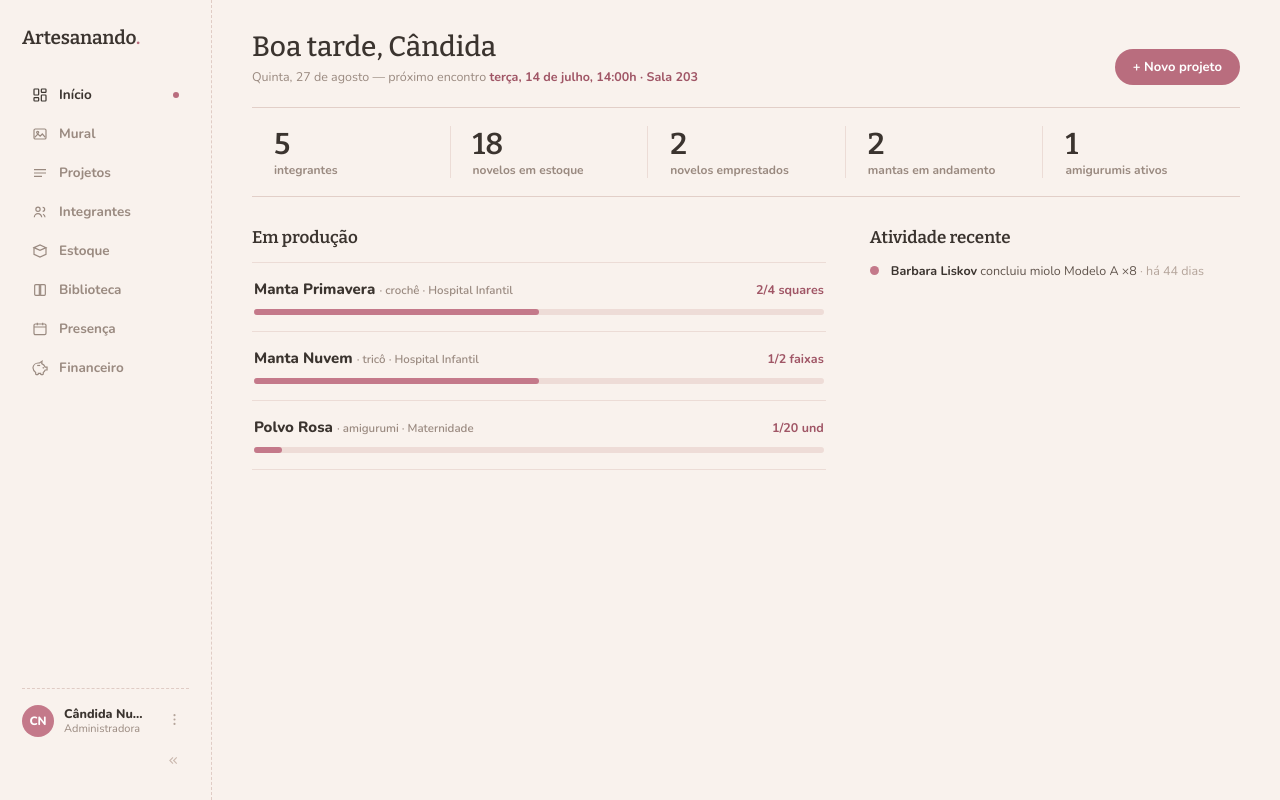
Test: navegação › abre o modal de novo projeto pela pagina inicial
Click the button "+ Novo projeto". click: (1177, 67)
box: [1115,49,1240,85]
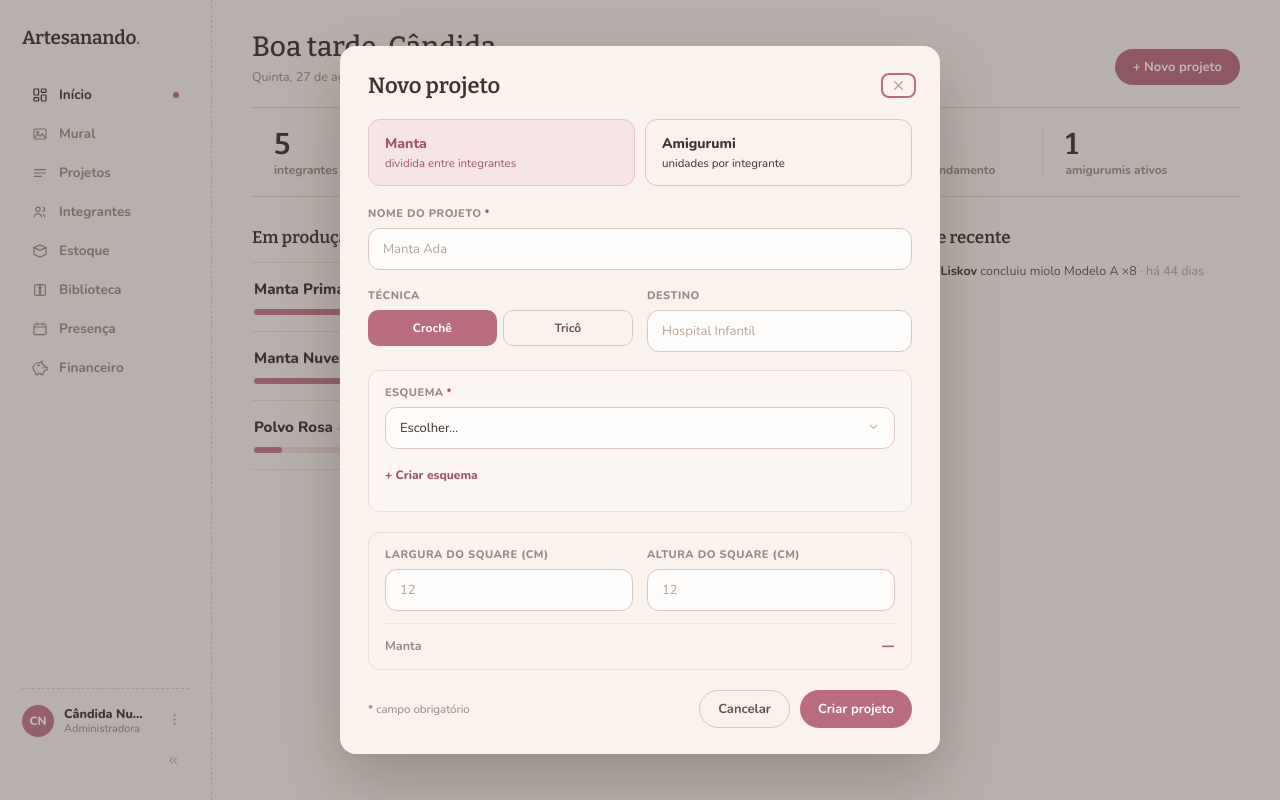
expect the dialog "Novo projeto" is shown: met, box [340,46,940,754]
